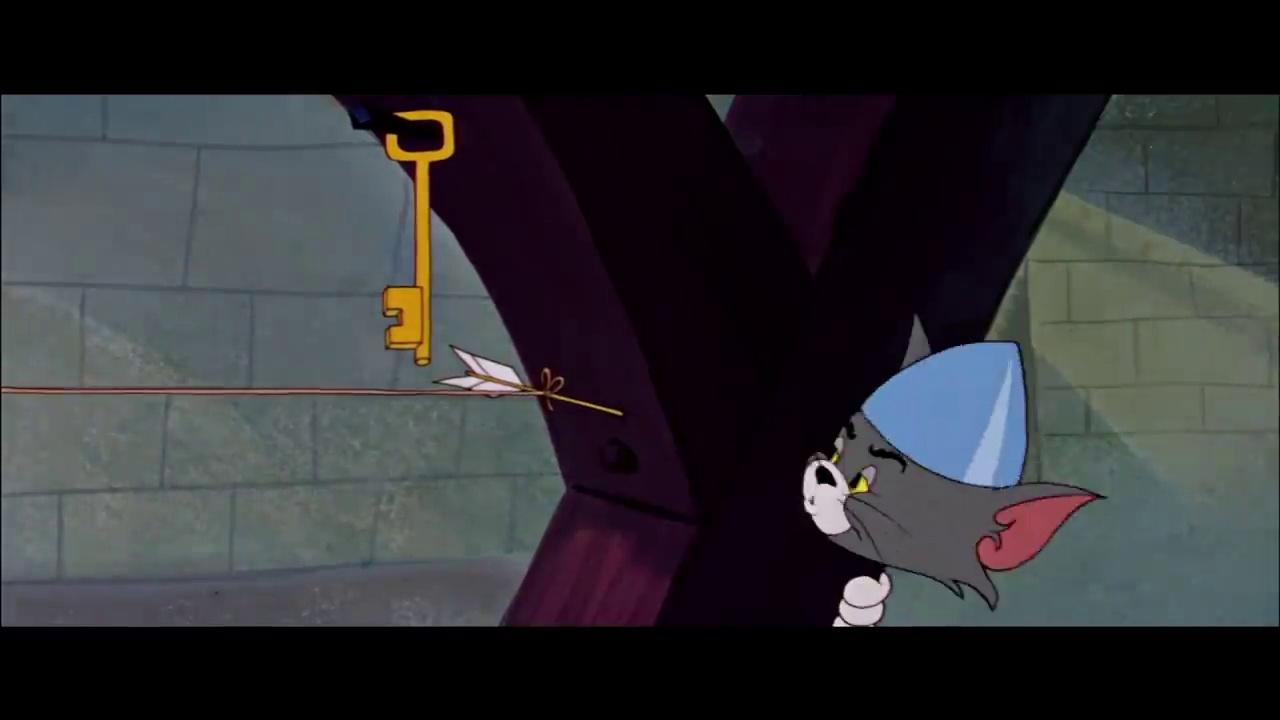Tom: (797, 311, 1111, 627)
